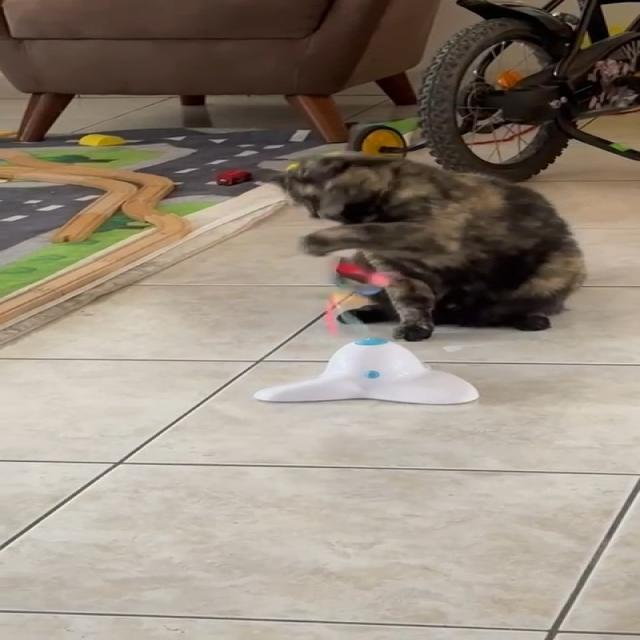authorized: (269, 150, 587, 342)
